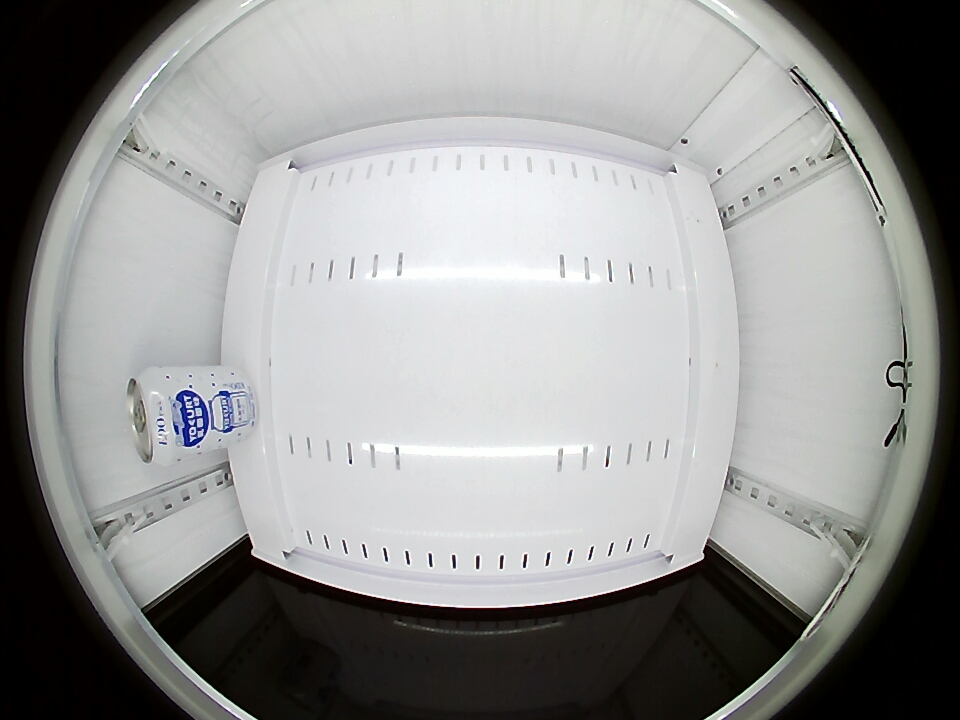rusuanjunqishui: (128, 368, 201, 467)
